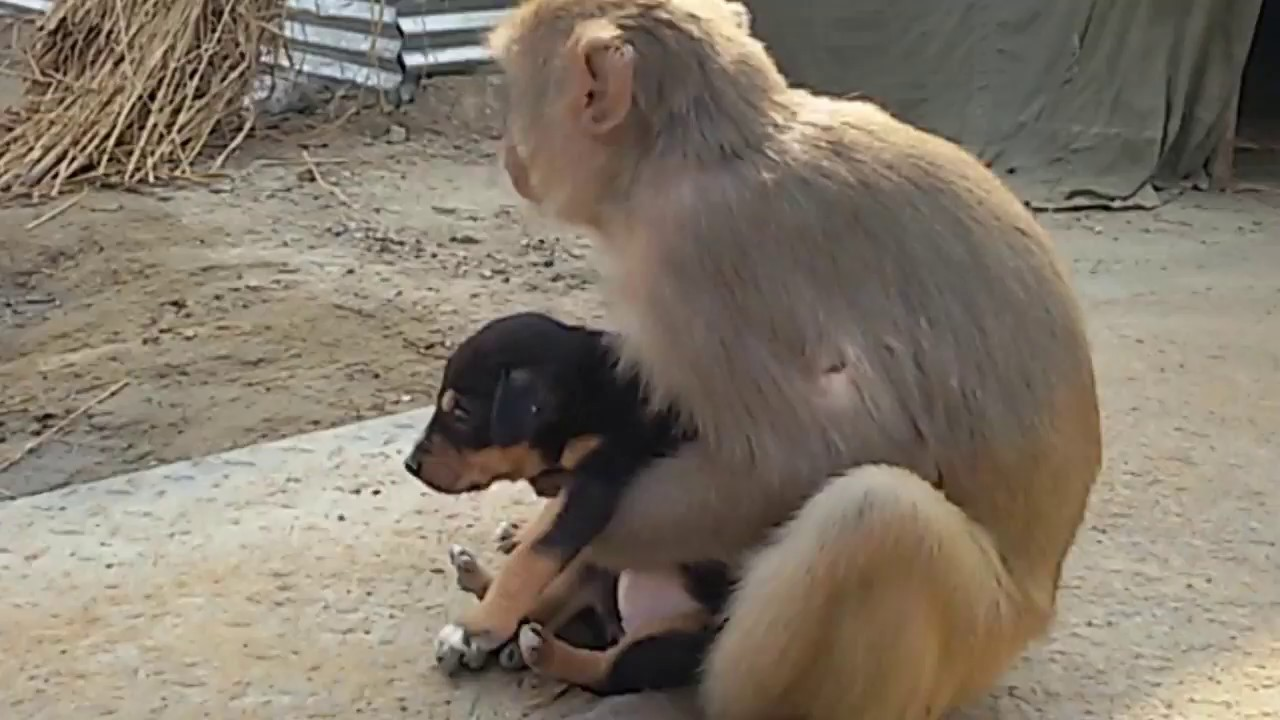dog: (403, 310, 721, 708)
monkey: (493, 5, 1106, 720)
